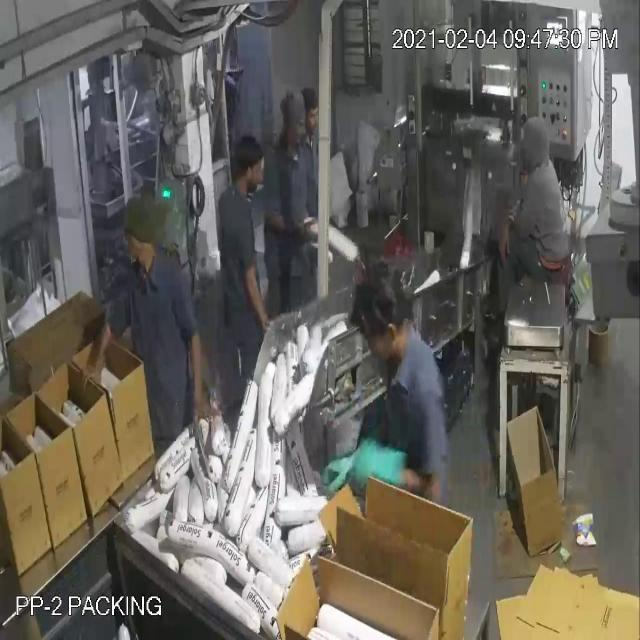No_Gloves: (24, 50, 506, 470)
